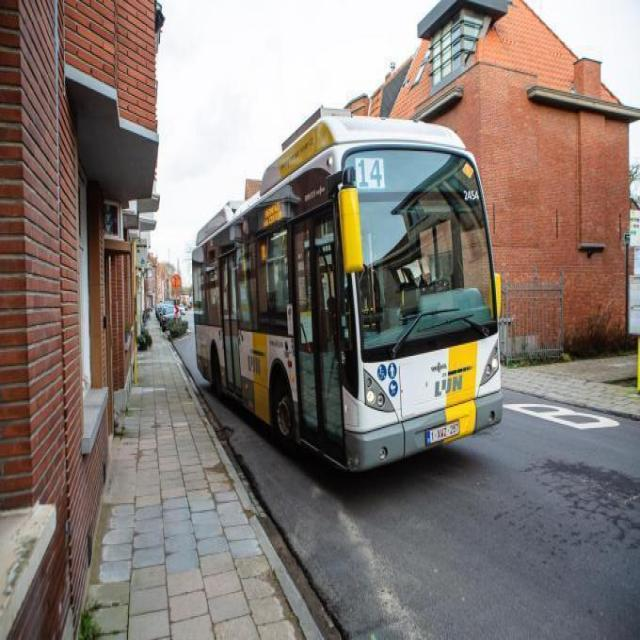bus-number: (356, 158, 383, 192)
